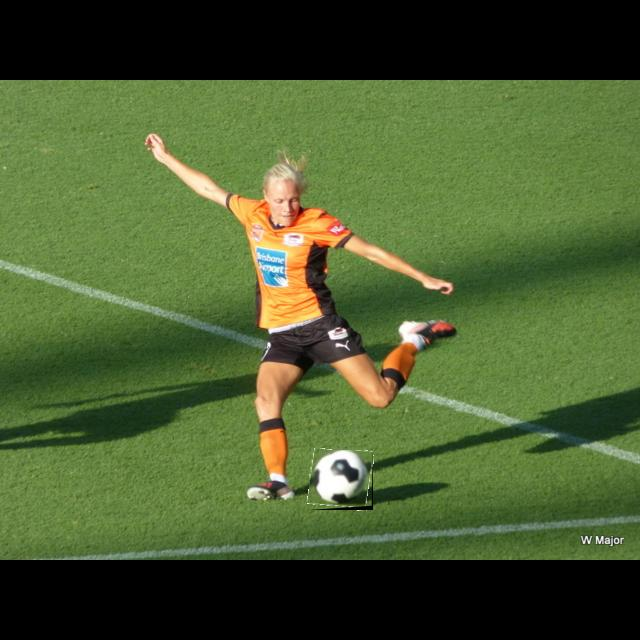Football: (309, 450, 373, 510)
